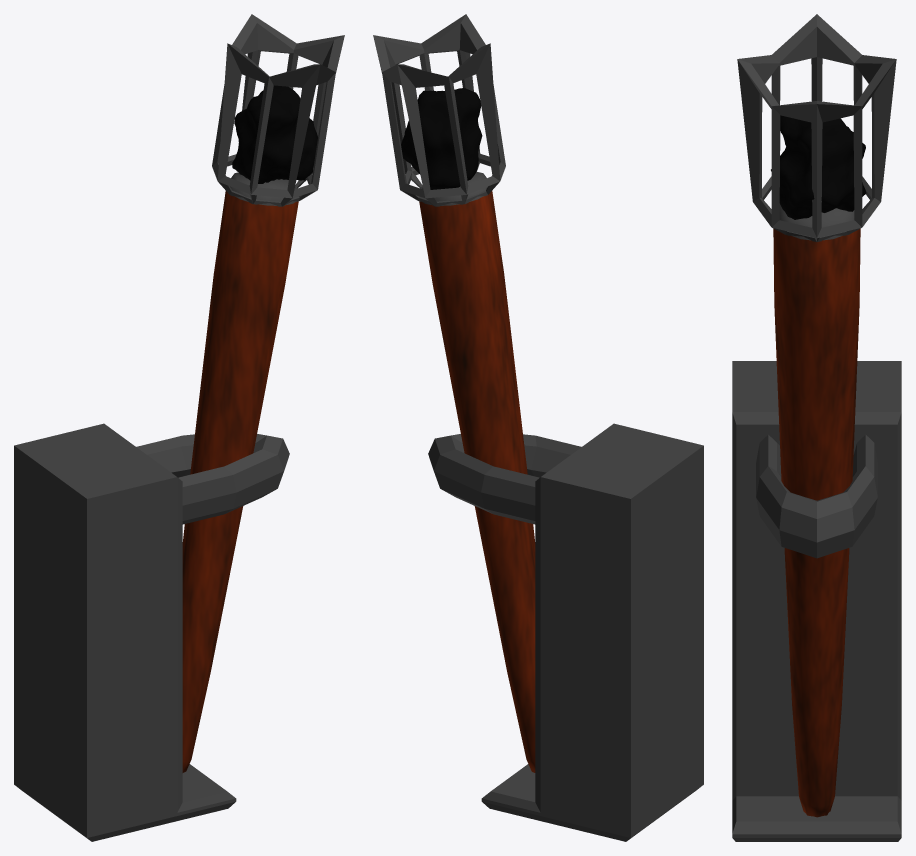
The model's file is wall torch.fbx.
3 renders of one model, left to right at view 1: azimuth 30°, elevation 25°; view 2: azimuth 150°, elevation 25°; view 3: azimuth 270°, elevation 25°, orthographic. The views are drawn at different scales.
Visible parts, largest first — view 1: Torus; view 2: Torus; view 3: Torus.
Part boxes in pixels (<box>): Torus: <box>14,14,344,841</box>; Torus: <box>373,14,703,841</box>; Torus: <box>732,14,901,841</box>.
Size of the model in its own units: 321 by 761 by 138.
